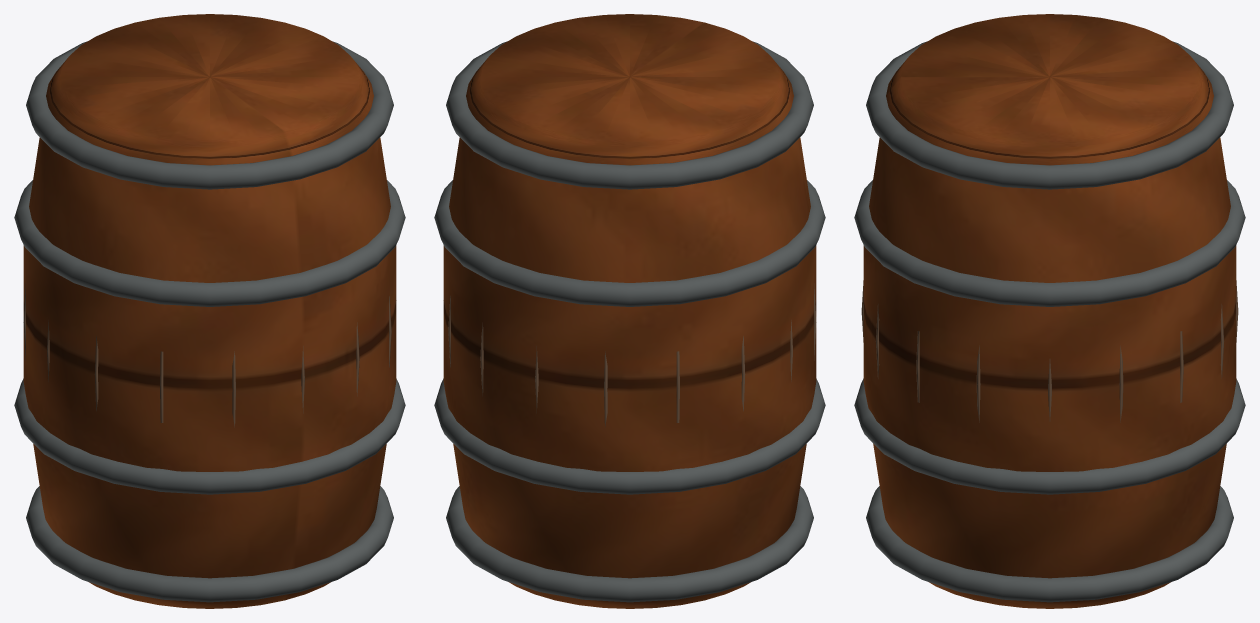
File: adventurers-tavern-and-guild-hall-cask-86ac06c8__24711.glb
3 views of the same model, side by side, from view 1: azimuth 30°, elevation 25°; view 2: azimuth 150°, elevation 25°; view 3: azimuth 270°, elevation 25° (orthographic).
Parts seen in each view (by area): view 1: cask; view 2: cask; view 3: cask.
Boxes of the visible parts, bbox=[...] form: cask: bbox=[14, 14, 405, 608]; cask: bbox=[434, 14, 825, 608]; cask: bbox=[854, 14, 1245, 608].
Bounding box in the file's own units: 0.7563 × 1 × 0.7563.
3 materials, 1 textured.
